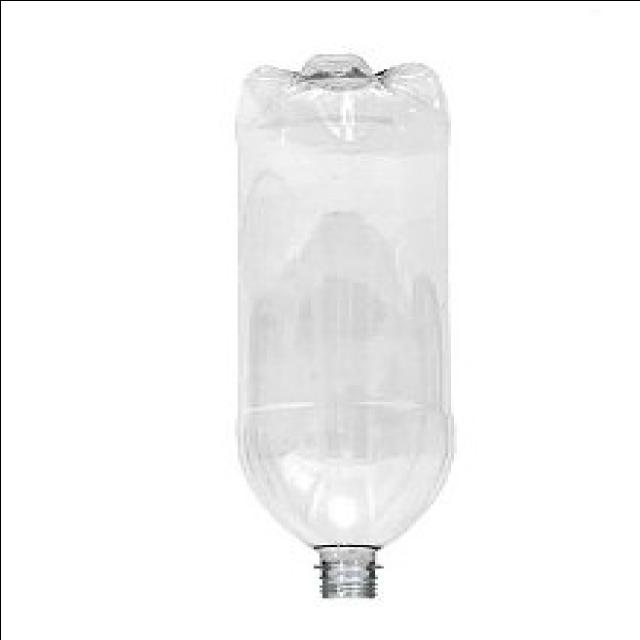bottle: (239, 55, 452, 597)
